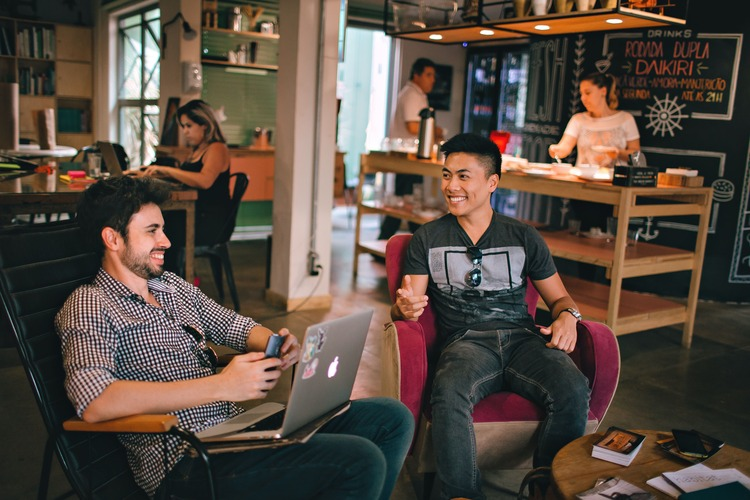without_mask: (123, 212, 172, 281), (438, 161, 483, 217), (180, 118, 202, 145), (578, 83, 598, 111), (422, 68, 437, 93)
